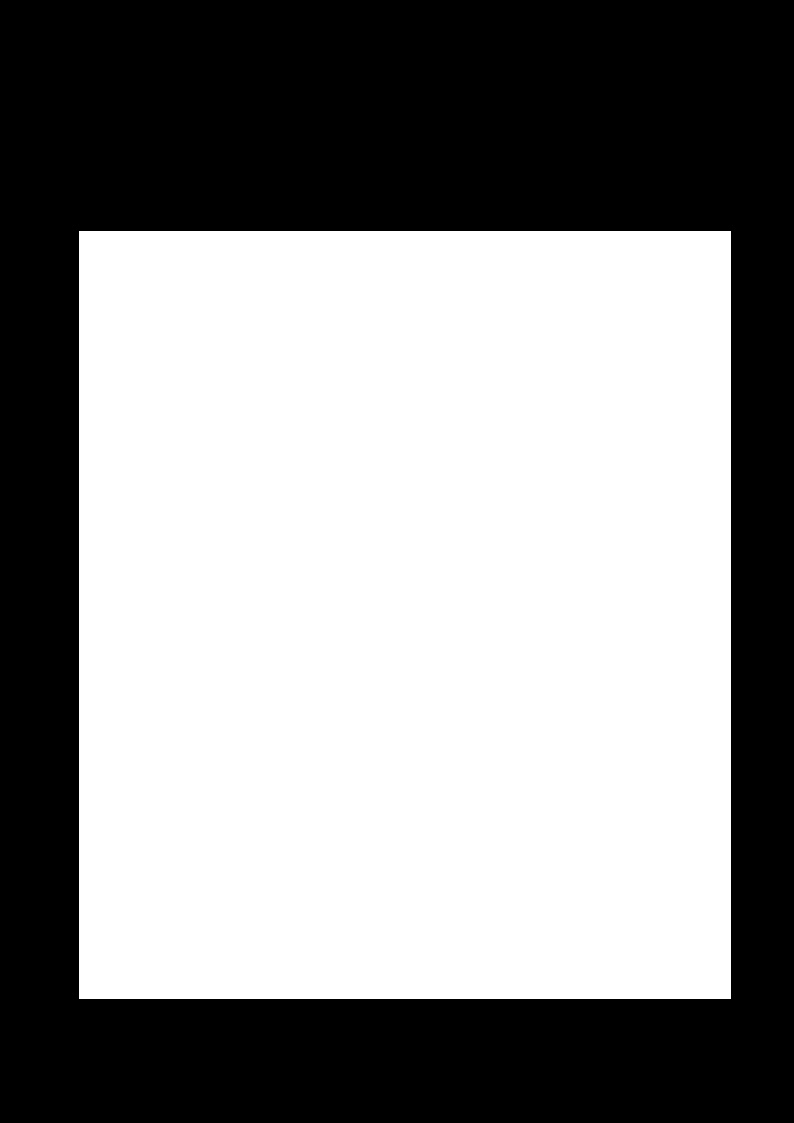table: (79, 231, 730, 998)
